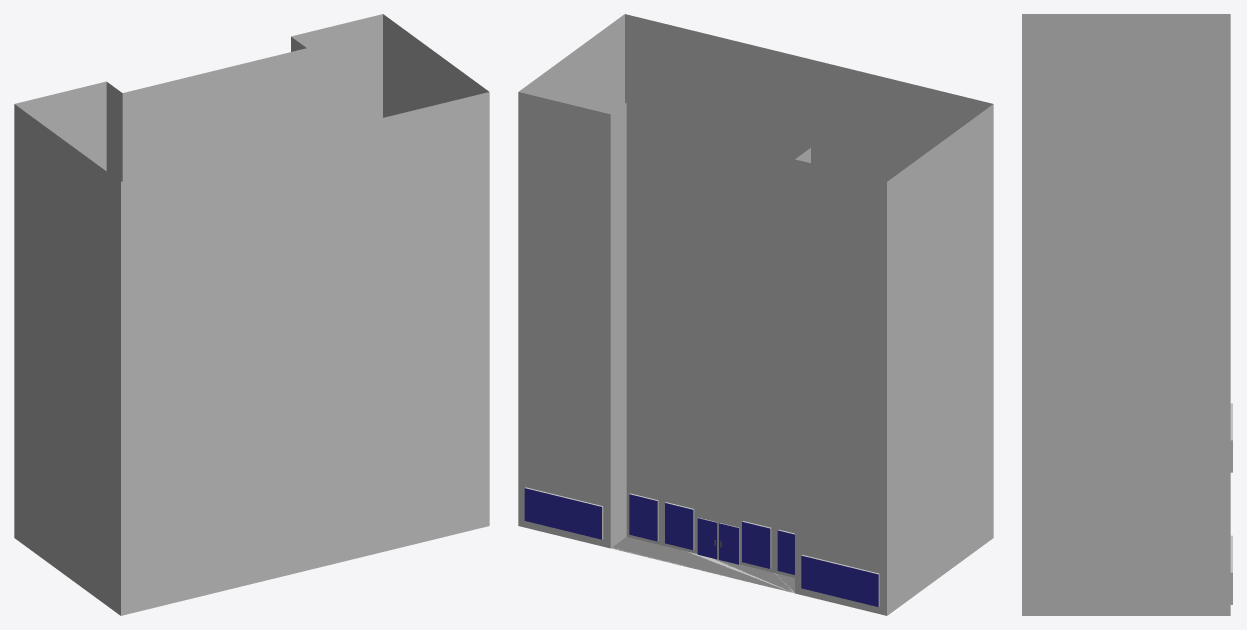
The model's file is Travel Agency Building Interior.glb.
The picture shows the model from 3 angles, left to right: view 1: azimuth 30°, elevation 25°; view 2: azimuth 150°, elevation 25°; view 3: azimuth 270°, elevation 25°; orthographic projection. The views are drawn at different scales.
Parts seen in each view (by area): view 1: Building; view 2: Building; view 3: Building.
Boxes of the visible parts, left/top/right/bottom form: Building: left=14, top=14, right=489, bottom=615; Building: left=518, top=14, right=993, bottom=615; Building: left=1022, top=14, right=1232, bottom=615.
Bounding box in the file's own units: 40 × 45.05 × 20.2.
